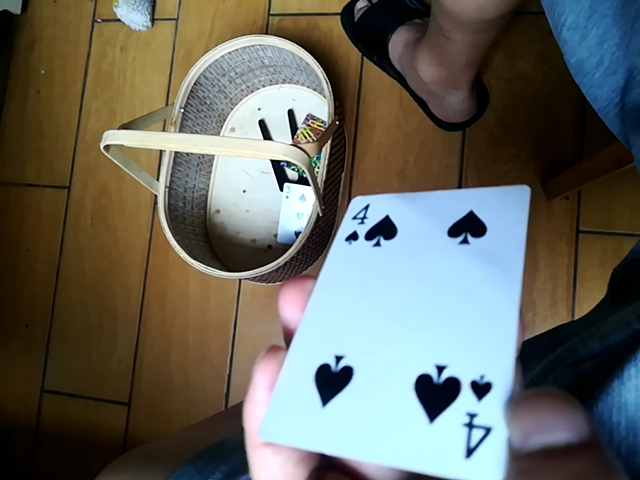ht 4: (248, 185, 537, 477)
